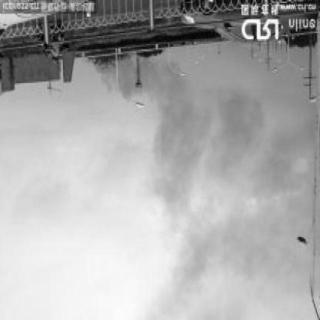Smoke: (148, 73, 262, 209), (145, 222, 293, 318)
